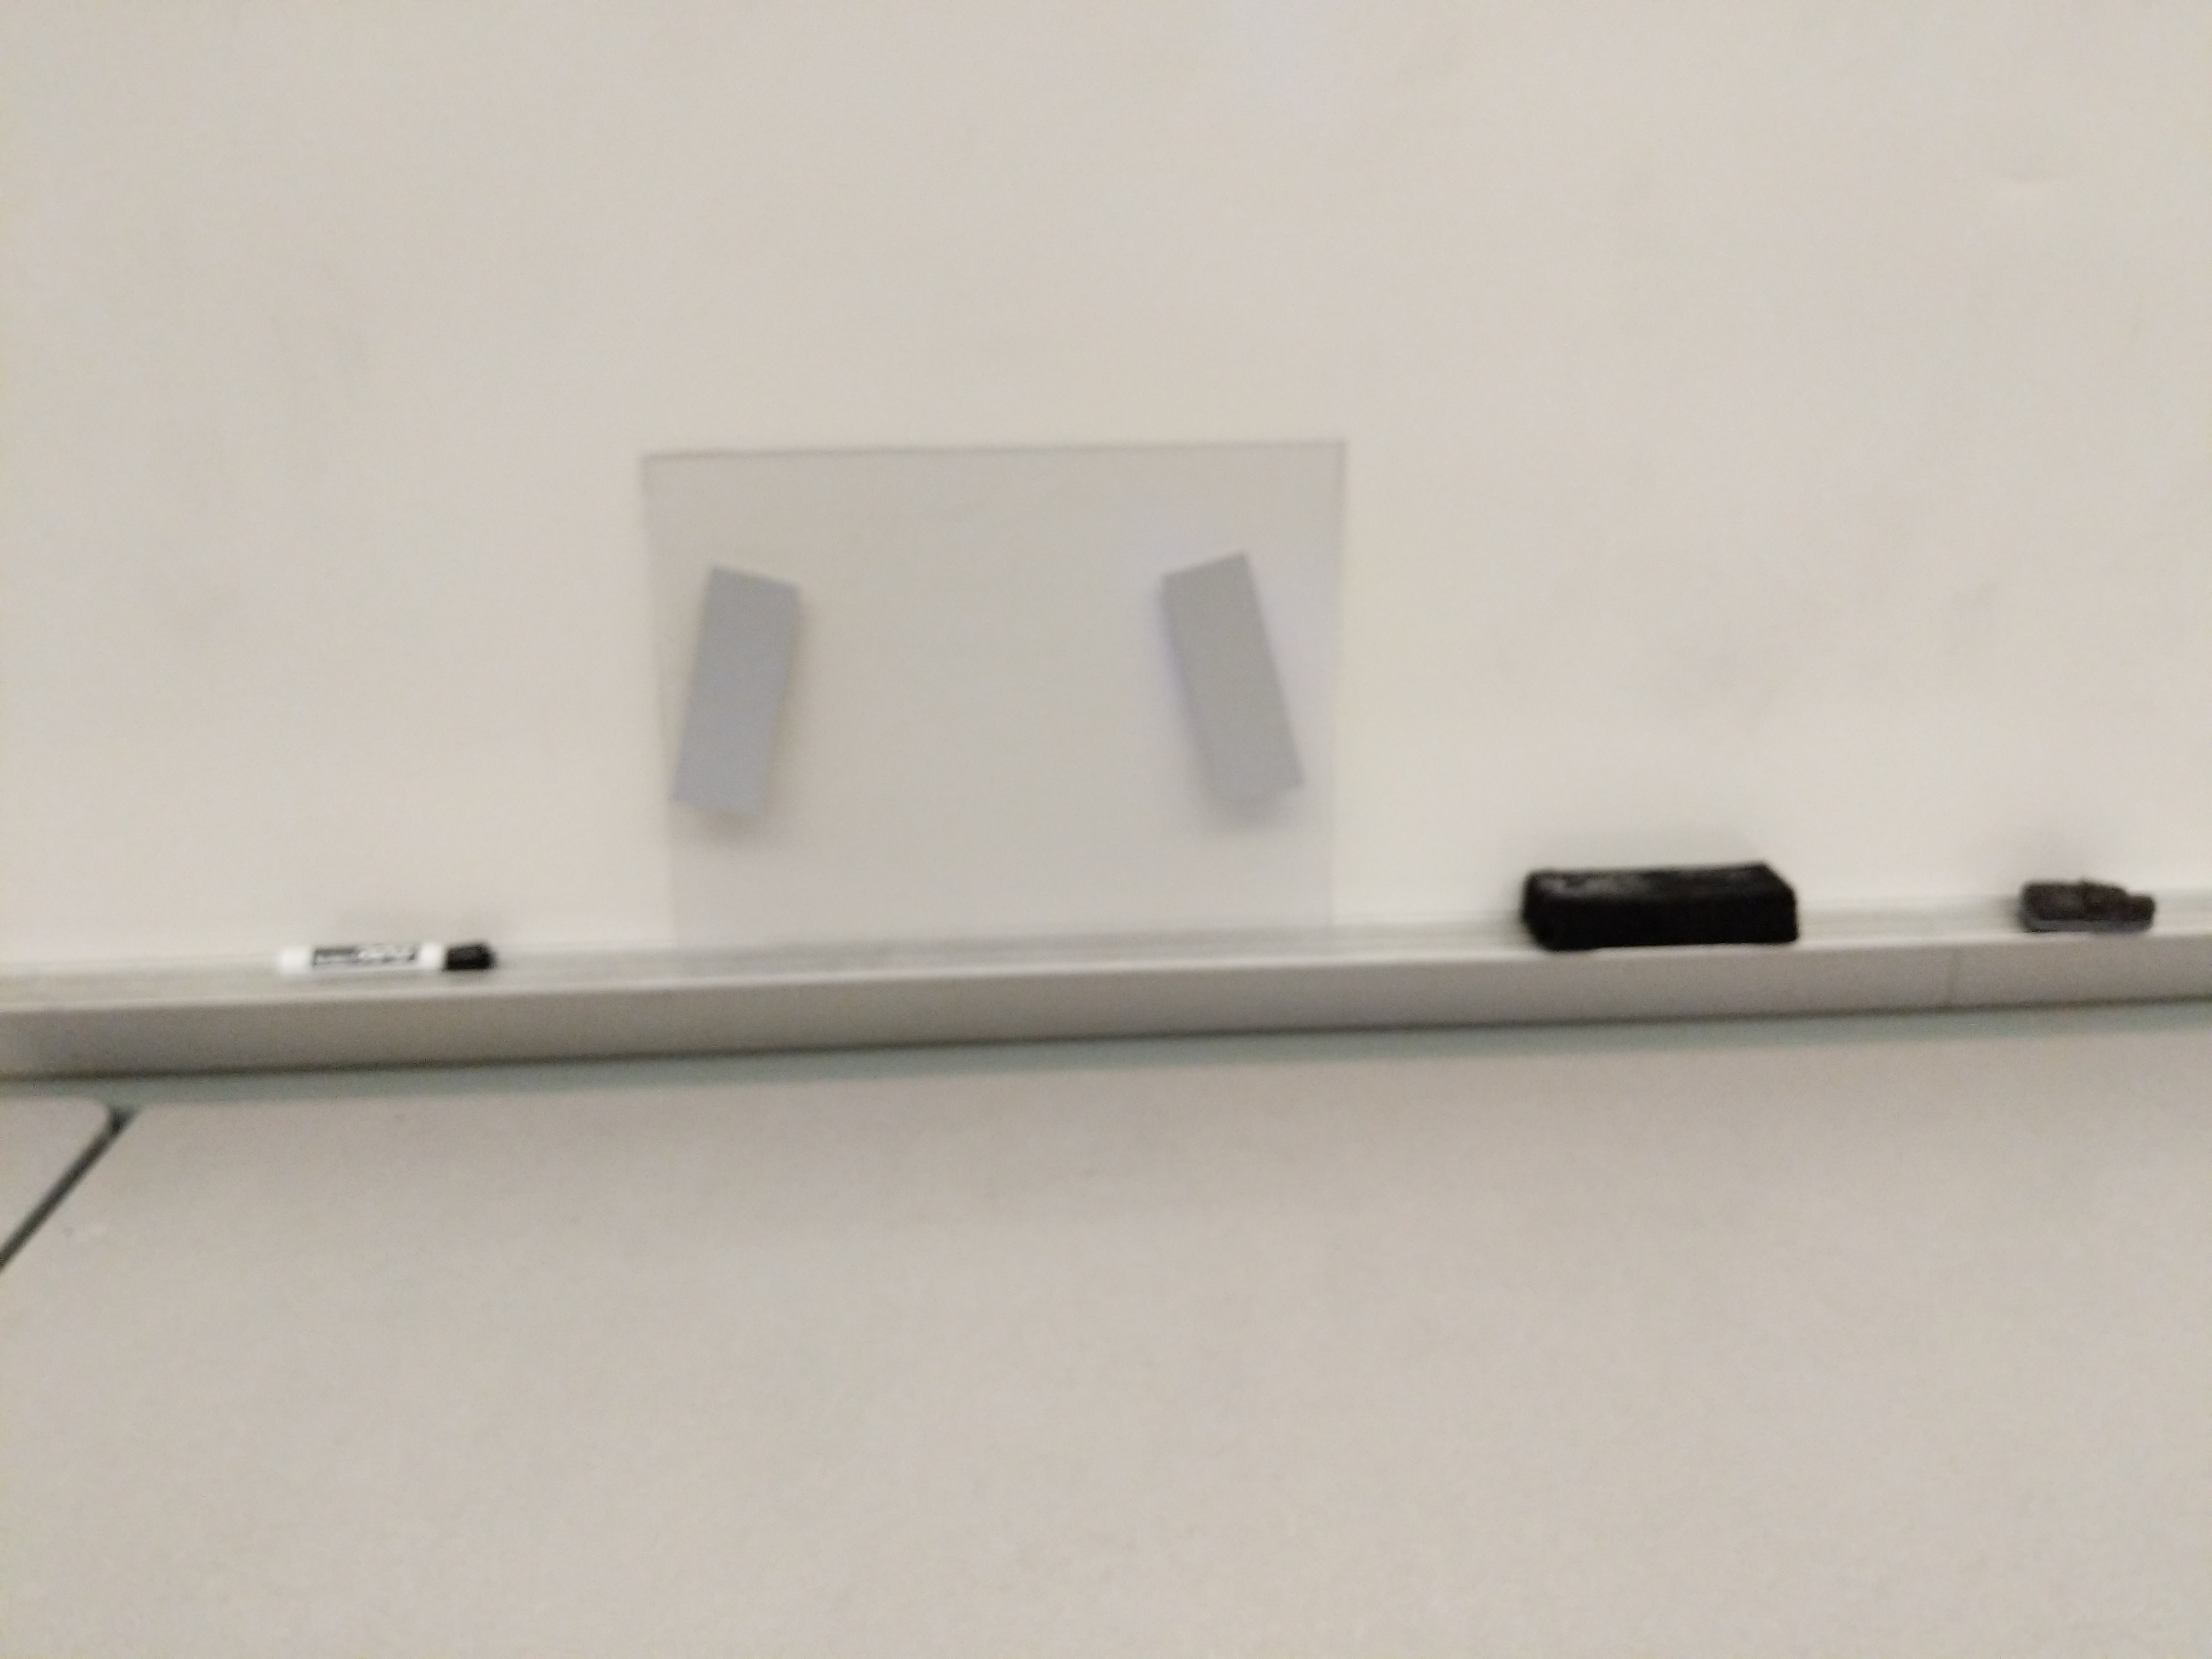vision_target: (658, 549, 1318, 835)
